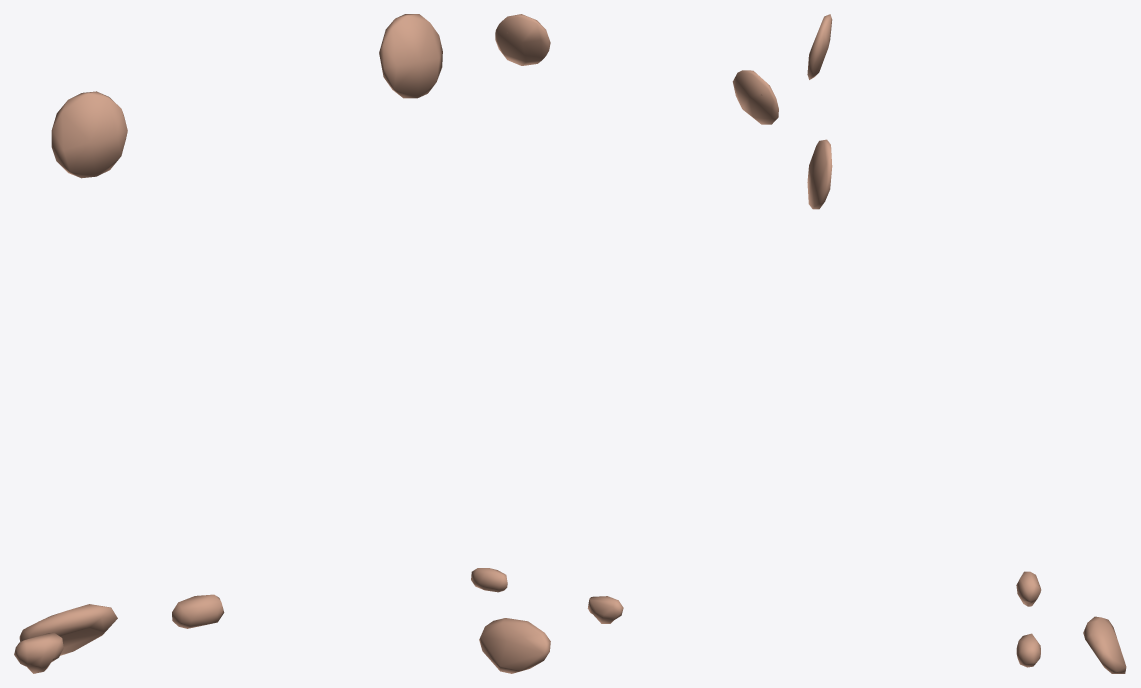
Rendered from pediatric_infant_female.reproductive.LOD3.glb.
3 renders of one model, left to right at view 1: azimuth 30°, elevation 25°; view 2: azimuth 150°, elevation 25°; view 3: azimuth 270°, elevation 25°, orthographic. The views are drawn at different scales.
Visible parts, largest first — view 1: PEDIATRIC.INFANT.FEMALE.REPRODUCTIVE.BREAST_ADIPOSE_TISSUE.R, PEDIATRIC.INFANT.FEMALE.REPRODUCTIVE.BREAST_ADIPOSE_TISSUE.L, PEDIATRIC.INFANT.FEMALE.REPRODUCTIVE.UTERUS, PEDIATRIC.INFANT.FEMALE.REPRODUCTIVE.OVARY.R, PEDIATRIC.INFANT.FEMALE.REPRODUCTIVE.OVARY.L; view 2: PEDIATRIC.INFANT.FEMALE.REPRODUCTIVE.UTERUS, PEDIATRIC.INFANT.FEMALE.REPRODUCTIVE.BREAST_ADIPOSE_TISSUE.L, PEDIATRIC.INFANT.FEMALE.REPRODUCTIVE.BREAST_ADIPOSE_TISSUE.R, PEDIATRIC.INFANT.FEMALE.REPRODUCTIVE.OVARY.R, PEDIATRIC.INFANT.FEMALE.REPRODUCTIVE.OVARY.L; view 3: PEDIATRIC.INFANT.FEMALE.REPRODUCTIVE.UTERUS, PEDIATRIC.INFANT.FEMALE.REPRODUCTIVE.BREAST_ADIPOSE_TISSUE.L, PEDIATRIC.INFANT.FEMALE.REPRODUCTIVE.BREAST_ADIPOSE_TISSUE.R, PEDIATRIC.INFANT.FEMALE.REPRODUCTIVE.OVARY.L, PEDIATRIC.INFANT.FEMALE.REPRODUCTIVE.OVARY.R.
Boxes of the visible parts, left/top/right/bottom form: PEDIATRIC.INFANT.FEMALE.REPRODUCTIVE.BREAST_ADIPOSE_TISSUE.R: left=51, top=91, right=127, bottom=178; PEDIATRIC.INFANT.FEMALE.REPRODUCTIVE.BREAST_ADIPOSE_TISSUE.L: left=379, top=14, right=442, bottom=98; PEDIATRIC.INFANT.FEMALE.REPRODUCTIVE.UTERUS: left=19, top=604, right=117, bottom=655; PEDIATRIC.INFANT.FEMALE.REPRODUCTIVE.OVARY.R: left=14, top=632, right=63, bottom=673; PEDIATRIC.INFANT.FEMALE.REPRODUCTIVE.OVARY.L: left=172, top=594, right=224, bottom=628; PEDIATRIC.INFANT.FEMALE.REPRODUCTIVE.UTERUS: left=479, top=618, right=550, bottom=673; PEDIATRIC.INFANT.FEMALE.REPRODUCTIVE.BREAST_ADIPOSE_TISSUE.L: left=495, top=14, right=550, bottom=65; PEDIATRIC.INFANT.FEMALE.REPRODUCTIVE.BREAST_ADIPOSE_TISSUE.R: left=732, top=70, right=778, bottom=124; PEDIATRIC.INFANT.FEMALE.REPRODUCTIVE.OVARY.R: left=587, top=596, right=623, bottom=623; PEDIATRIC.INFANT.FEMALE.REPRODUCTIVE.OVARY.L: left=471, top=568, right=507, bottom=592; PEDIATRIC.INFANT.FEMALE.REPRODUCTIVE.UTERUS: left=1083, top=616, right=1126, bottom=673; PEDIATRIC.INFANT.FEMALE.REPRODUCTIVE.BREAST_ADIPOSE_TISSUE.L: left=807, top=139, right=832, bottom=209; PEDIATRIC.INFANT.FEMALE.REPRODUCTIVE.BREAST_ADIPOSE_TISSUE.R: left=807, top=14, right=832, bottom=79; PEDIATRIC.INFANT.FEMALE.REPRODUCTIVE.OVARY.L: left=1016, top=633, right=1040, bottom=667; PEDIATRIC.INFANT.FEMALE.REPRODUCTIVE.OVARY.R: left=1016, top=571, right=1041, bottom=606.
Bounding box in the file's own units: 0.1076 × 0.193 × 0.0939.
